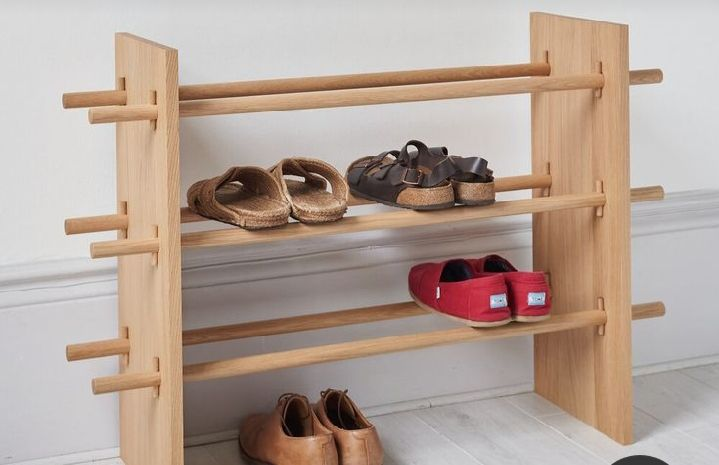sandal: (175, 142, 352, 241), (345, 129, 509, 220)
sepatu: (232, 367, 394, 465), (399, 241, 563, 335)
